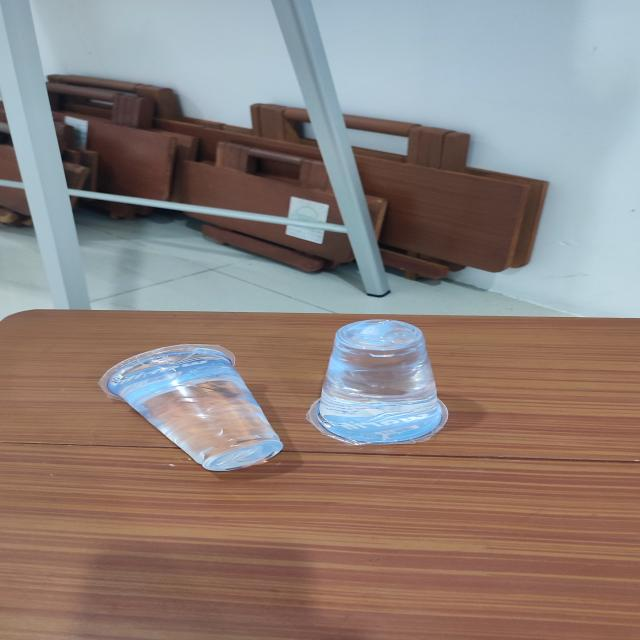air gelas: (91, 339, 298, 474), (290, 316, 461, 450)
